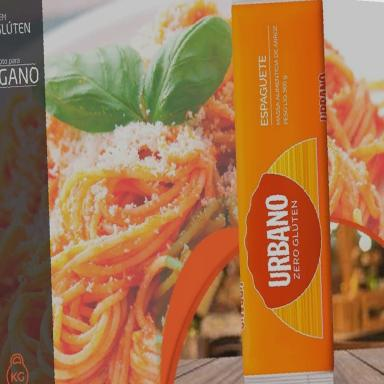pasta package: (232, 0, 333, 383)
